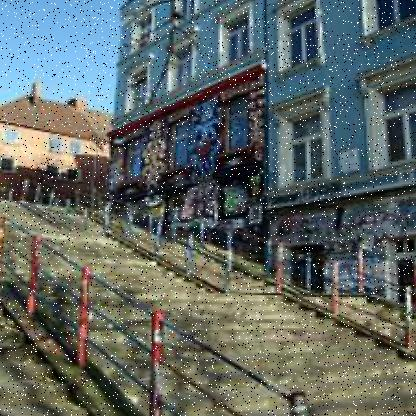stair_up: (136, 277, 398, 412)
